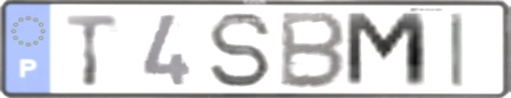4: (139, 11, 194, 90)
B: (276, 9, 349, 92)
I: (447, 10, 467, 91)
M: (341, 10, 432, 91)
S: (205, 10, 275, 91)
T: (63, 12, 122, 89)
